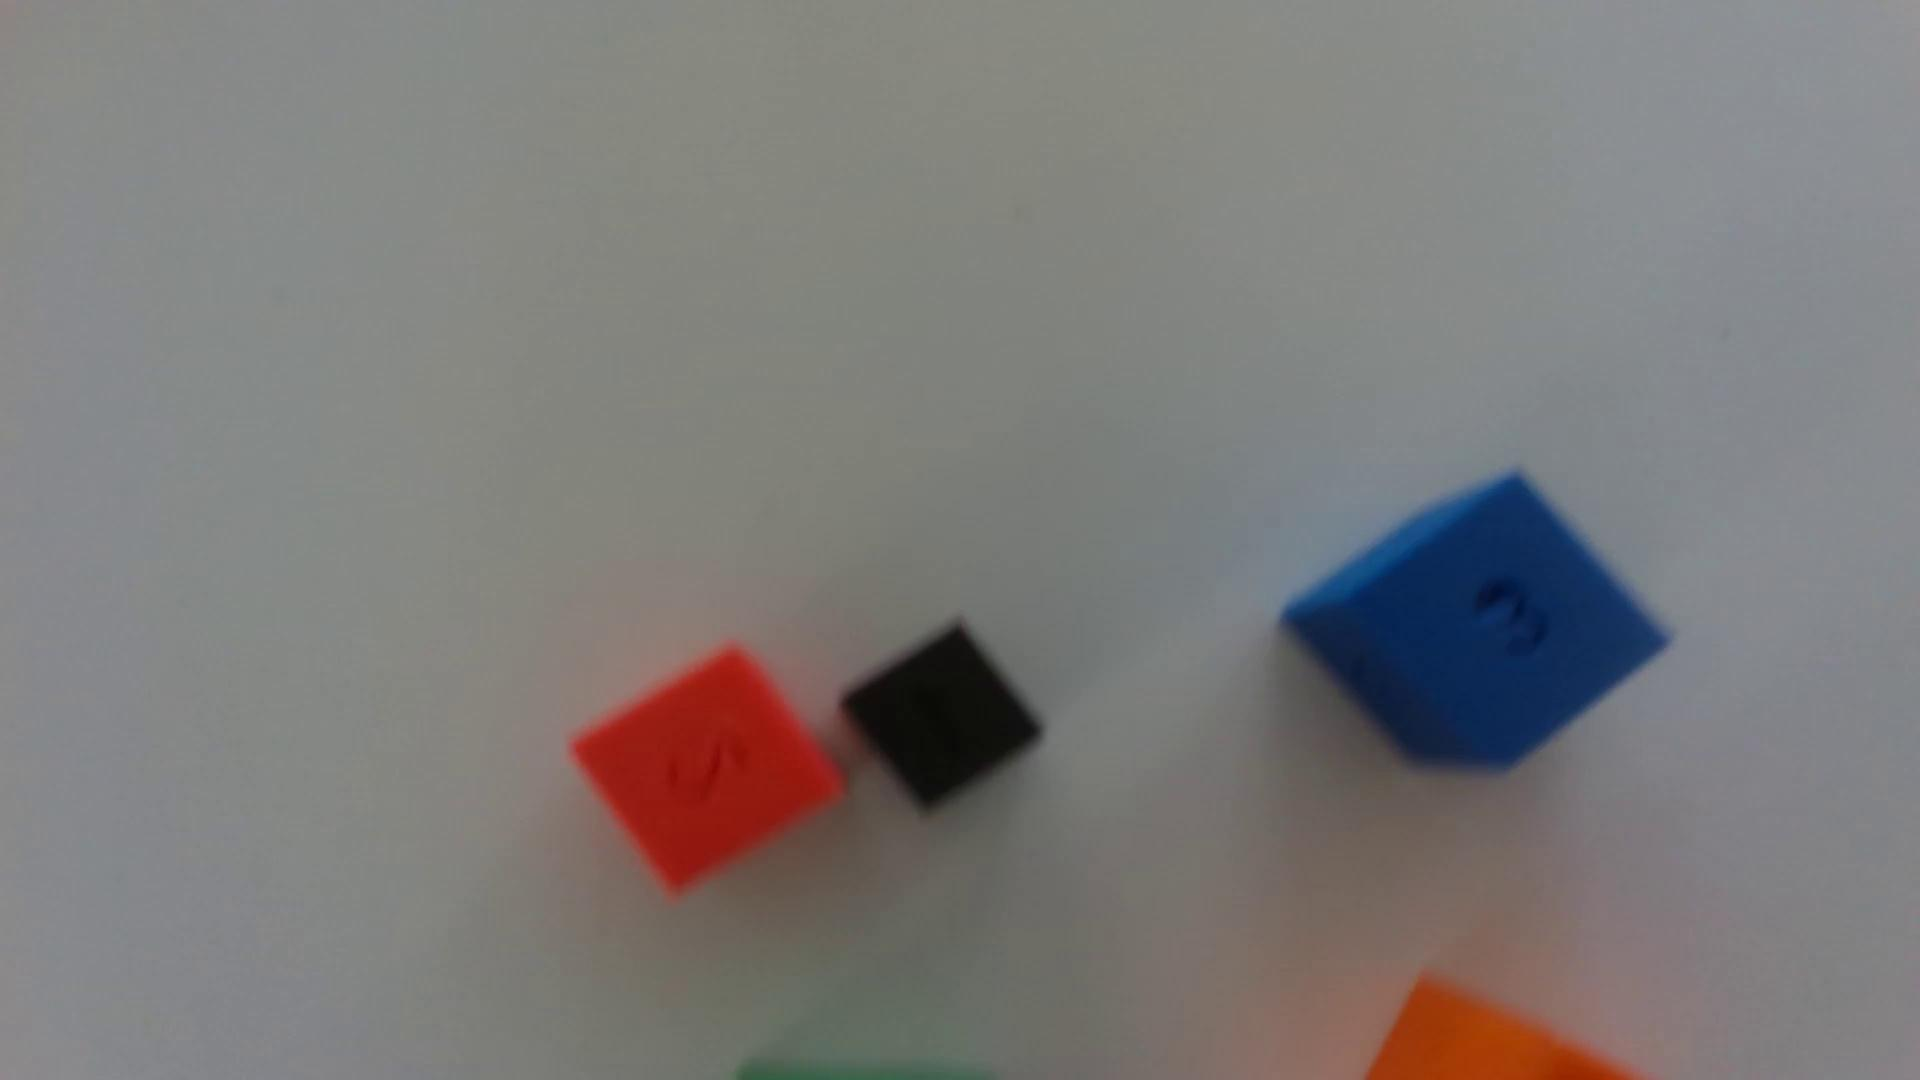black: (843, 625, 1043, 810)
blue: (1283, 473, 1668, 770)
green: (737, 1060, 989, 1080)
orange: (1366, 980, 1634, 1080)
red: (572, 647, 845, 891)
